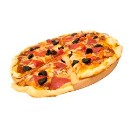pepperonipizza: (11, 32, 123, 98)
